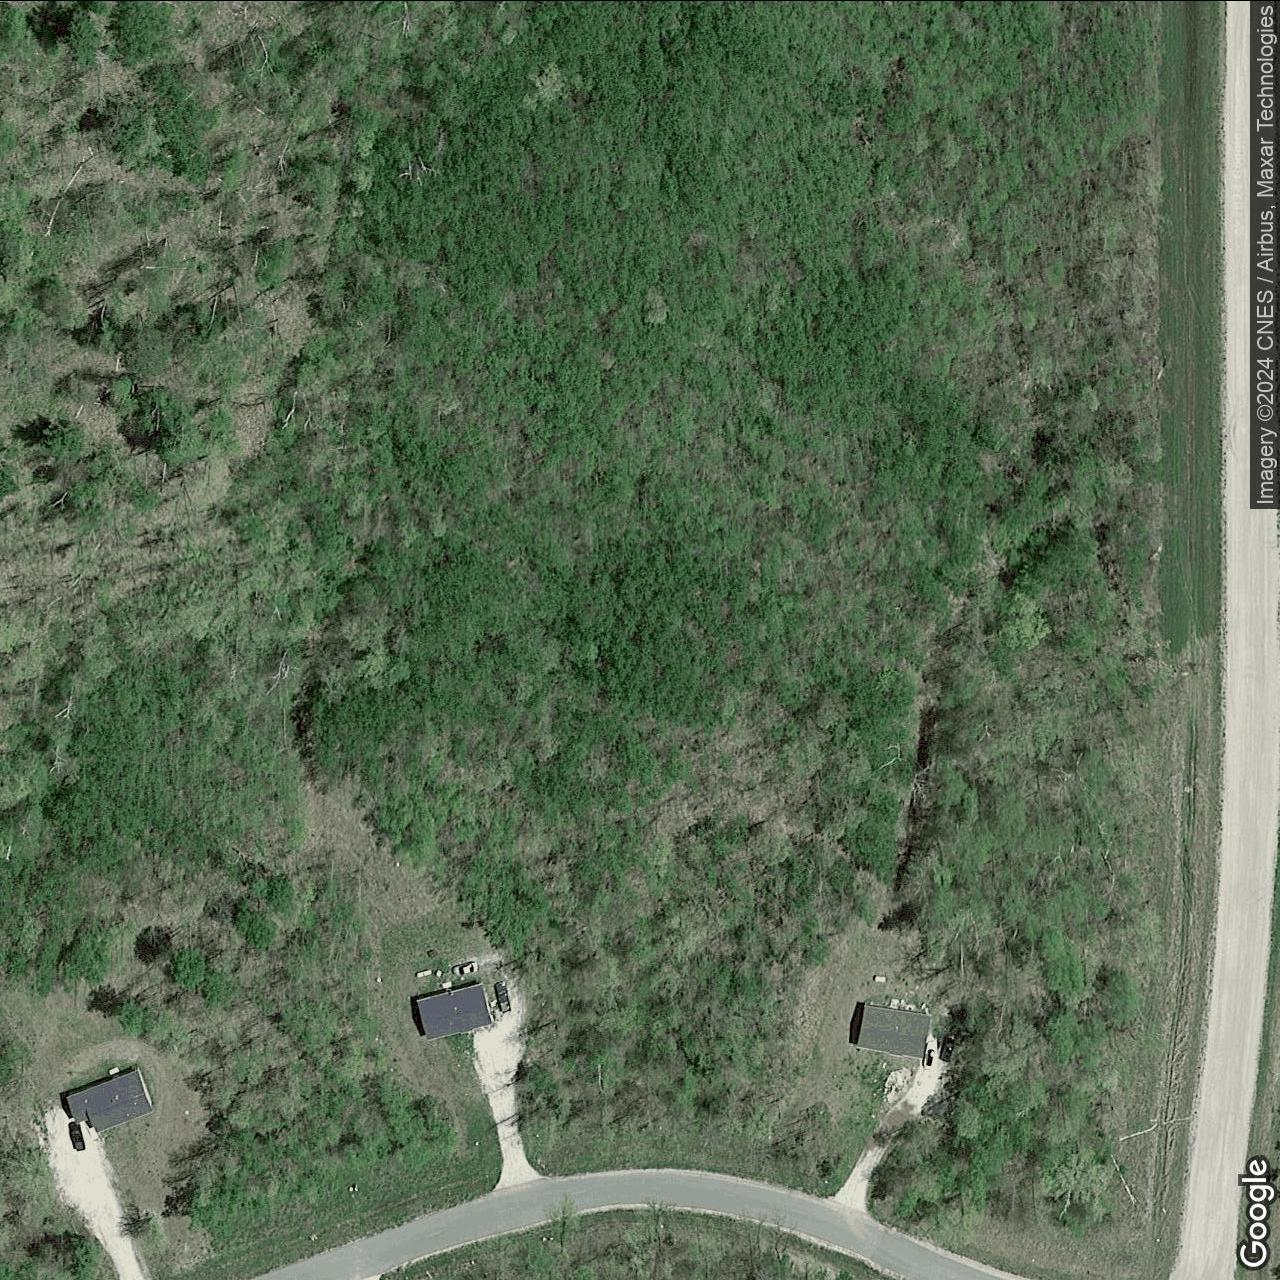House: (66, 1065, 155, 1132), (414, 981, 495, 1040), (856, 1003, 932, 1058)
Propane: (413, 966, 433, 979), (870, 973, 888, 983), (105, 1063, 121, 1076)
